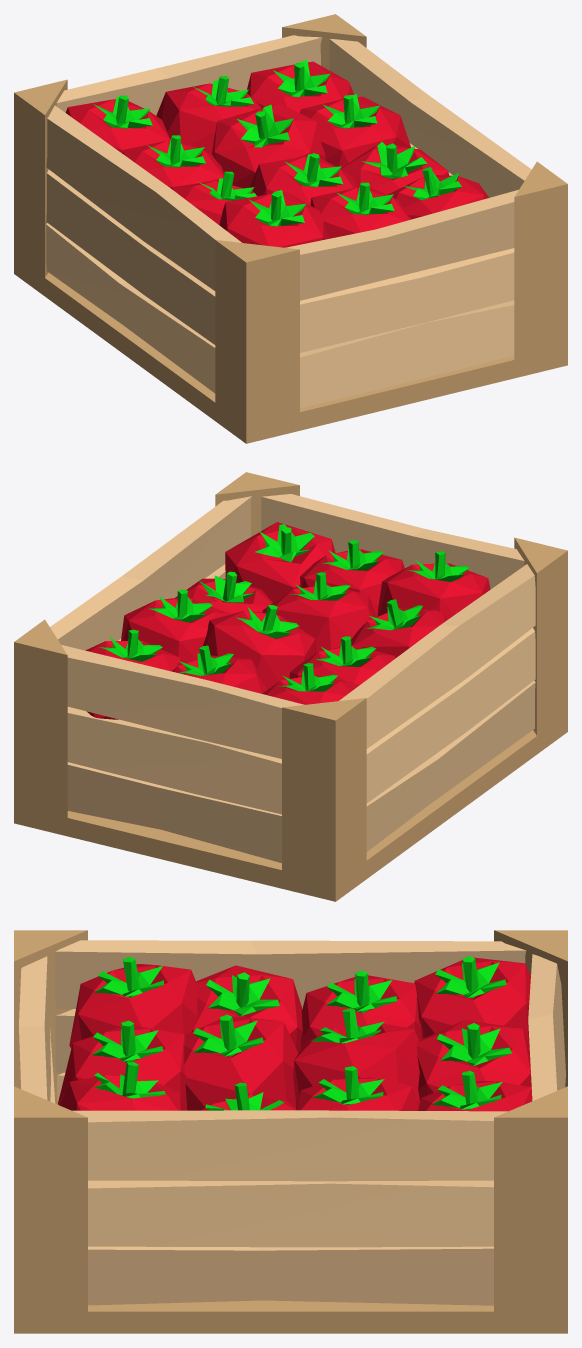
File: TomatoCrate.fbx
The picture shows the model from 3 angles, top to bottom: view 1: azimuth 30°, elevation 25°; view 2: azimuth 150°, elevation 25°; view 3: azimuth 270°, elevation 25°; orthographic projection. The views are drawn at different scales.
Visible parts, largest first — view 1: TomatoCrate; view 2: TomatoCrate; view 3: TomatoCrate.
Boxes of the visible parts, x1=… form: TomatoCrate: x1=14, y1=14, x2=567, y2=443; TomatoCrate: x1=14, y1=472, x2=567, y2=901; TomatoCrate: x1=14, y1=930, x2=567, y2=1333.
Bounding box in the file's own units: 161 × 92.81 × 200.
